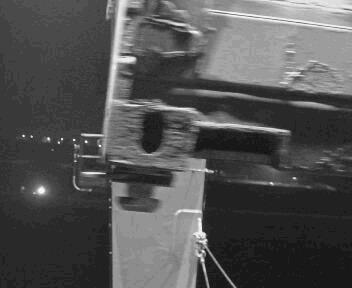twist_lock_1: (98, 162, 176, 217)
